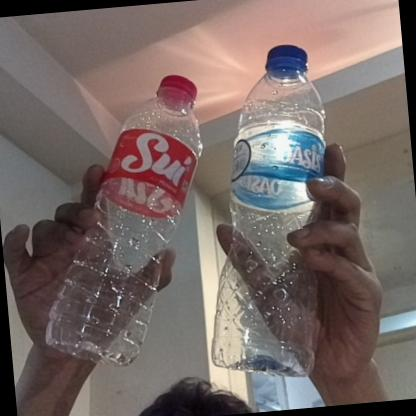plastic_bottles: (23, 59, 220, 368), (184, 40, 343, 374)
